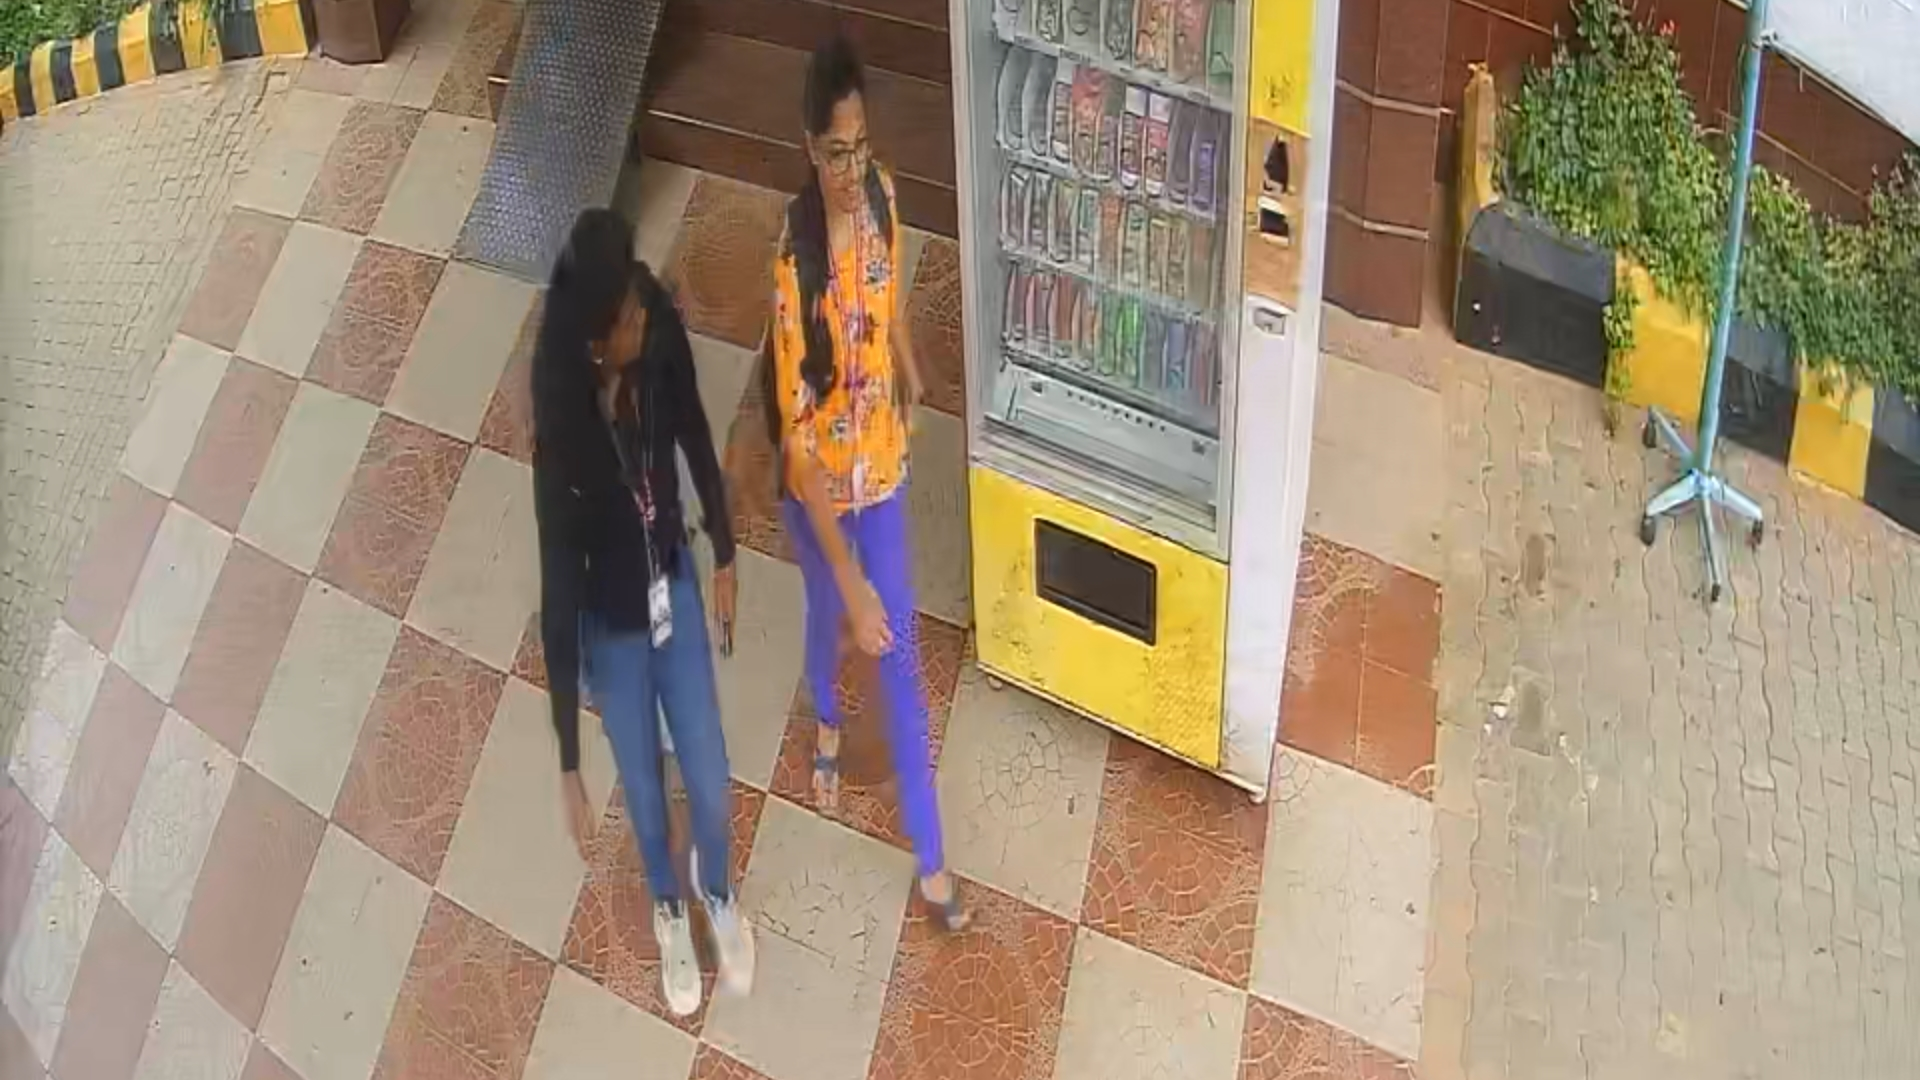not intruder: (512, 204, 775, 1004), (754, 30, 975, 909)
